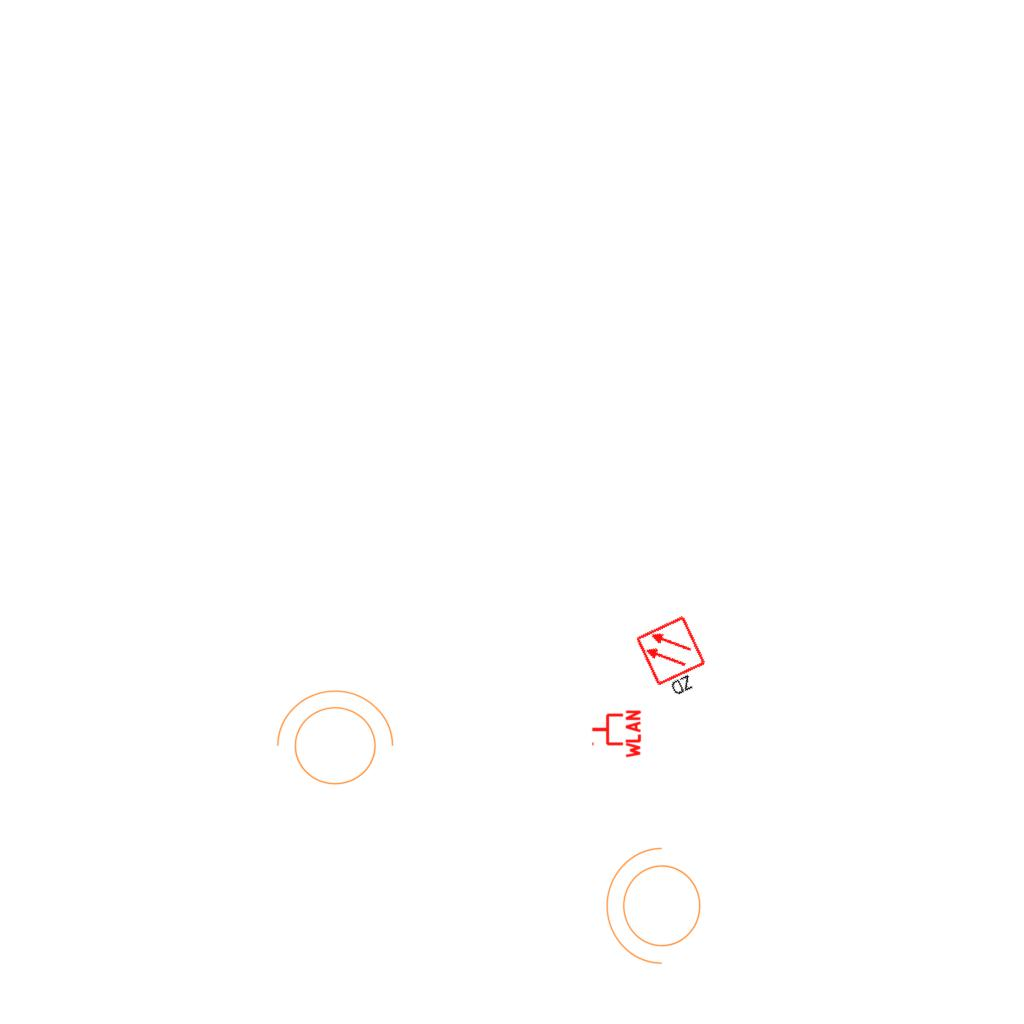Scheinwerfer_fuer_Alarmbeleuchtung: (601, 843, 713, 975), (266, 685, 398, 797)
WLAN: (590, 708, 642, 760)
ZD_Melder_in_Zwischendecke_mit_Revisionsoeffnung_mind_40_x_40_cm: (634, 613, 717, 705)
